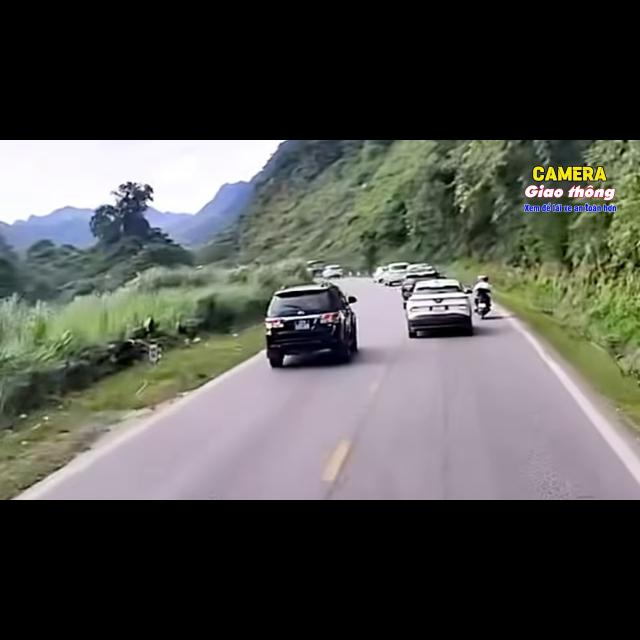car: (265, 282, 357, 367), (406, 279, 473, 337), (401, 270, 438, 307), (383, 262, 409, 285), (322, 265, 343, 278), (307, 260, 324, 276), (407, 263, 434, 273), (373, 266, 386, 283)
motorcycle: (476, 294, 490, 319)
